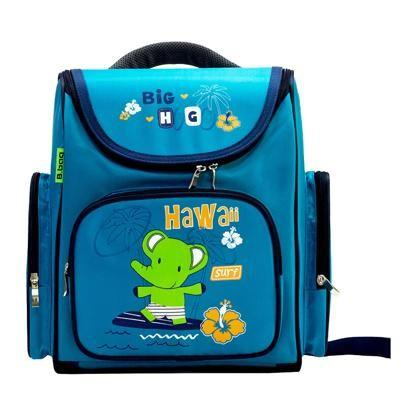not trash: (22, 35, 341, 376)
